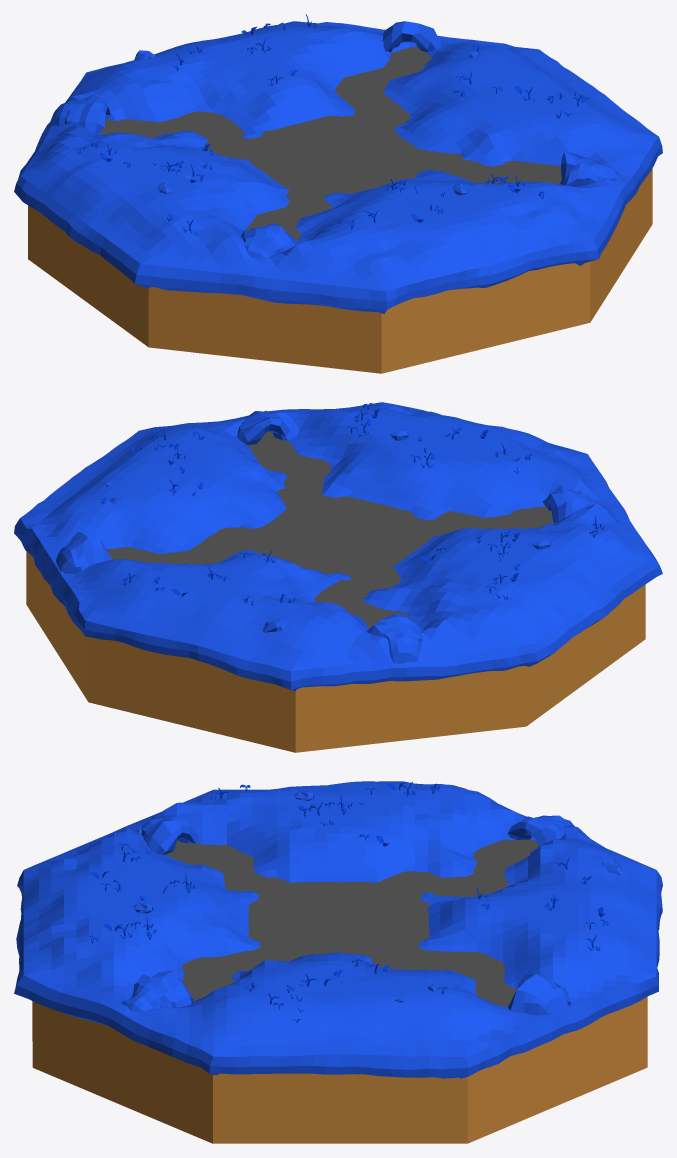
File: Terrain new M1.FBX
3 views of the same model, one above another, from view 1: azimuth 30°, elevation 25°; view 2: azimuth 150°, elevation 25°; view 3: azimuth 270°, elevation 25° (orthographic). The views are drawn at different scales.
Visible parts, largest first — view 1: Box024, Cylinder328, Box023, Sphere009, Torus010, Torus011, Torus012, Torus009; view 2: Box024, Cylinder328, Box023, Sphere009, Torus010, Torus012, Torus009, Torus011; view 3: Box024, Cylinder328, Box023, Sphere009, Torus012, Torus009, Torus011, Torus010.
Boxes of the visible parts, bbox=[...] form: Box024: bbox=[14, 21, 662, 314]; Cylinder328: bbox=[28, 168, 652, 373]; Box023: bbox=[100, 46, 561, 241]; Sphere009: bbox=[76, 14, 589, 234]; Torus010: bbox=[48, 94, 110, 134]; Torus011: bbox=[241, 223, 297, 259]; Torus012: bbox=[560, 152, 620, 186]; Torus009: bbox=[382, 21, 441, 52]; Box024: bbox=[14, 402, 662, 690]; Cylinder328: bbox=[26, 551, 645, 752]; Box023: bbox=[106, 431, 553, 628]; Sphere009: bbox=[101, 403, 604, 632]; Torus010: bbox=[367, 613, 423, 678]; Torus012: bbox=[237, 410, 299, 445]; Torus009: bbox=[56, 532, 112, 573]; Torus011: bbox=[543, 485, 599, 522]; Box024: bbox=[14, 781, 662, 1078]; Cylinder328: bbox=[32, 997, 647, 1143]; Box023: bbox=[165, 839, 538, 1006]; Sphere009: bbox=[89, 781, 623, 1023]; Torus012: bbox=[122, 970, 193, 1012]; Torus009: bbox=[507, 973, 571, 1015]; Torus011: bbox=[141, 815, 200, 854]; Torus010: bbox=[507, 815, 574, 847].
Size of the model in its own units: 202 by 44.67 by 201.
